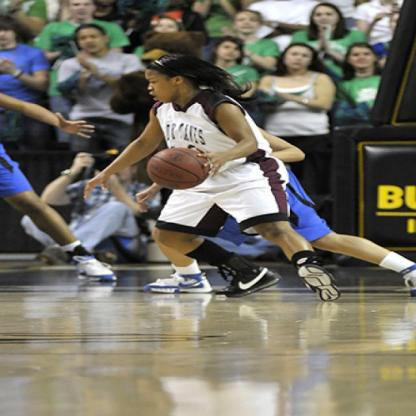basketball: (146, 148, 212, 192)
